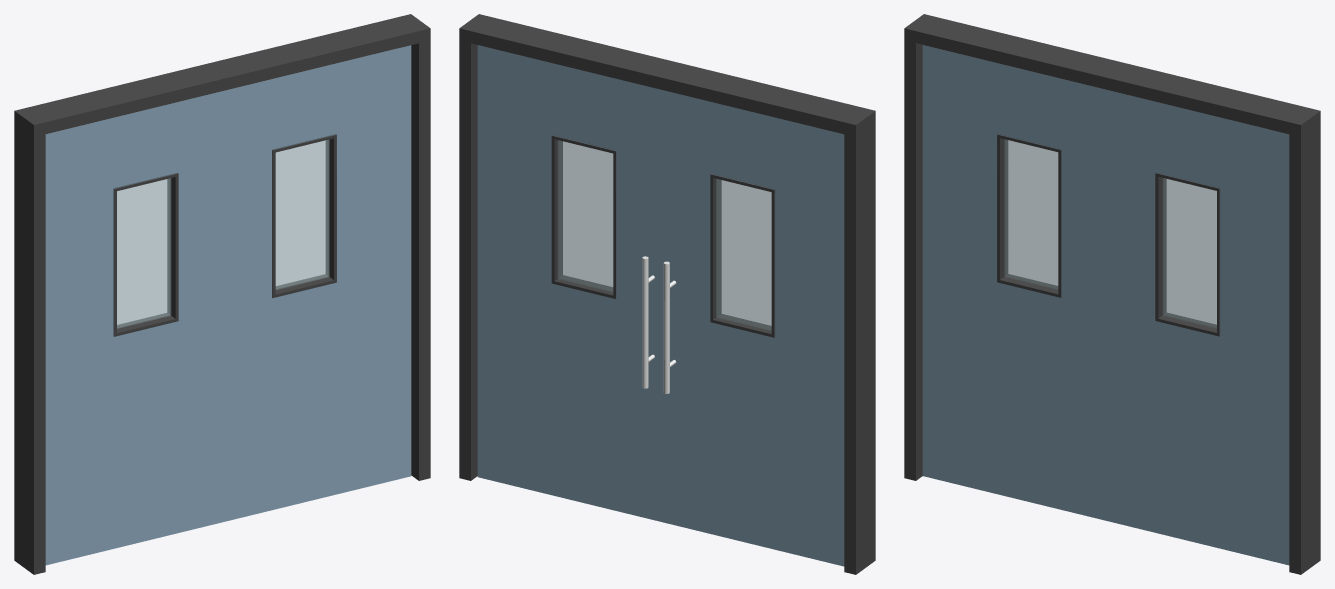
Rendered from Door.fbx.
The picture shows the model from 3 angles, left to right: view 1: azimuth 30°, elevation 25°; view 2: azimuth 150°, elevation 25°; view 3: azimuth 330°, elevation 25°; orthographic projection.
Visible parts, largest first — view 1: Door; view 2: Door; view 3: Door.
Boxes of the visible parts, bbox=[...] form: Door: bbox=[14, 14, 430, 574]; Door: bbox=[459, 14, 875, 574]; Door: bbox=[904, 14, 1320, 574].
Bounding box in the file's own units: 196 × 212 × 19.84.
